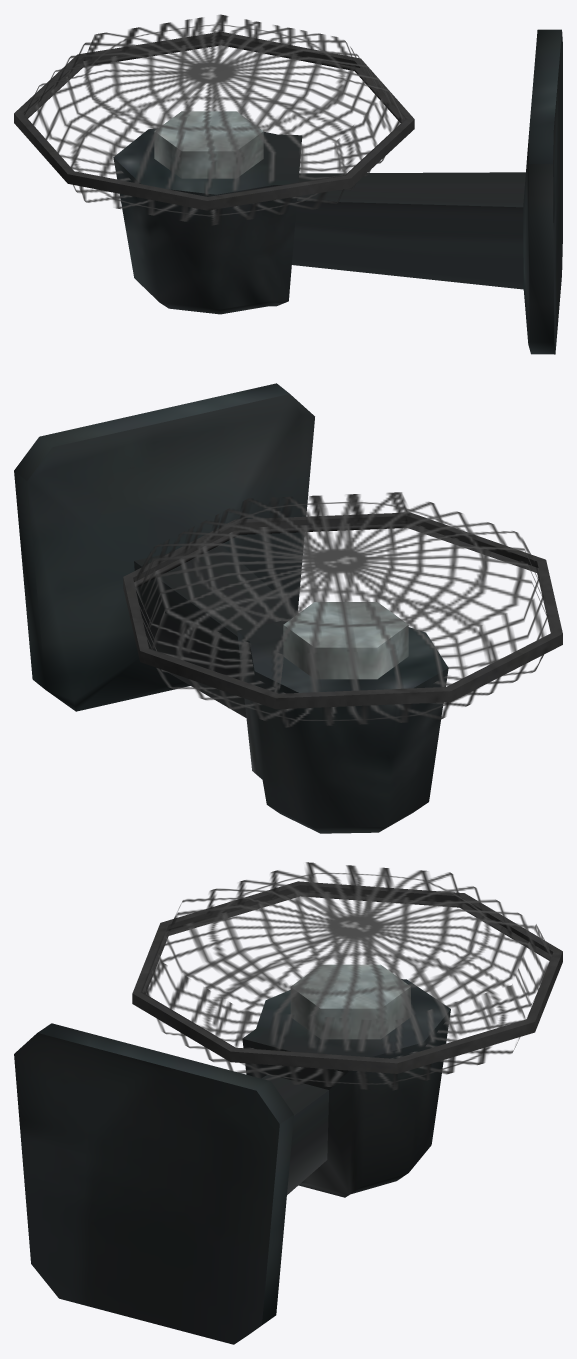
The model's file is Ventilator_01_001-col.glb.
3 renders of one model, top to bottom at view 1: azimuth 30°, elevation 25°; view 2: azimuth 150°, elevation 25°; view 3: azimuth 270°, elevation 25°, orthographic. The views are drawn at different scales.
Visible parts, largest first — view 1: Ventilator_01.001-col; view 2: Ventilator_01.001-col; view 3: Ventilator_01.001-col.
Part boxes in pixels (x1,y1,x2,y2): Ventilator_01.001-col: (14, 14, 562, 354); Ventilator_01.001-col: (14, 383, 562, 833); Ventilator_01.001-col: (14, 862, 562, 1344).
Bounding box in the file's own units: 0.7232 × 0.3344 × 0.6407.
1 material, 1 textured.
